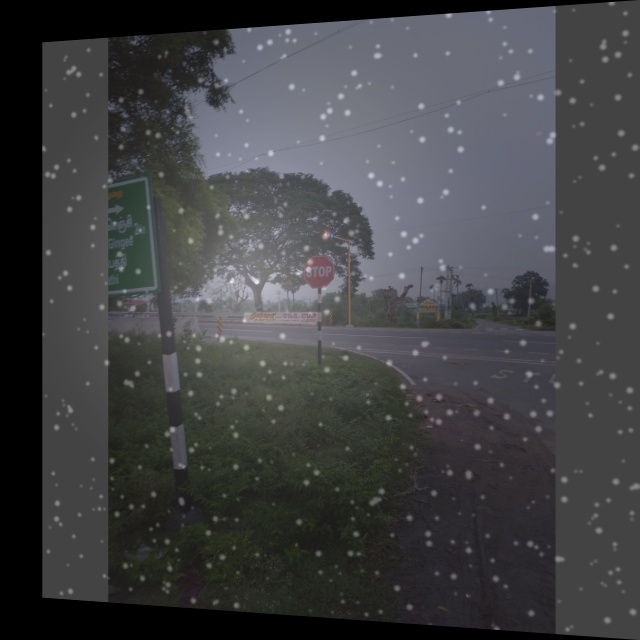Stop: (301, 253, 335, 289)
